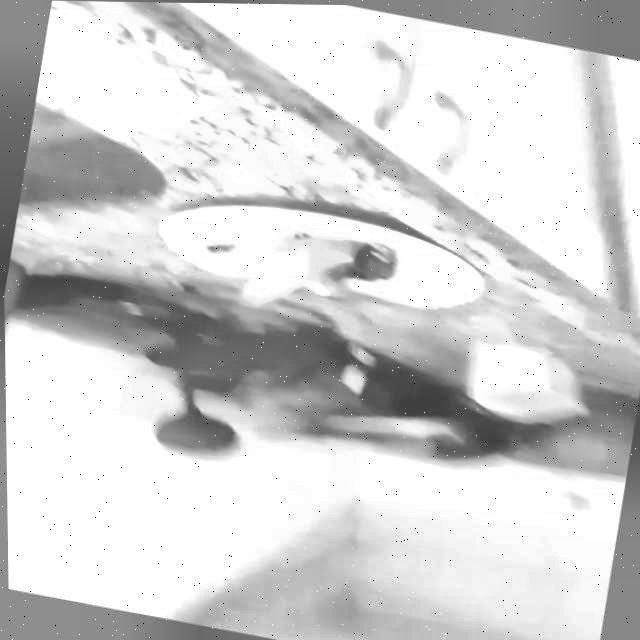Fire: (229, 209, 404, 335)
